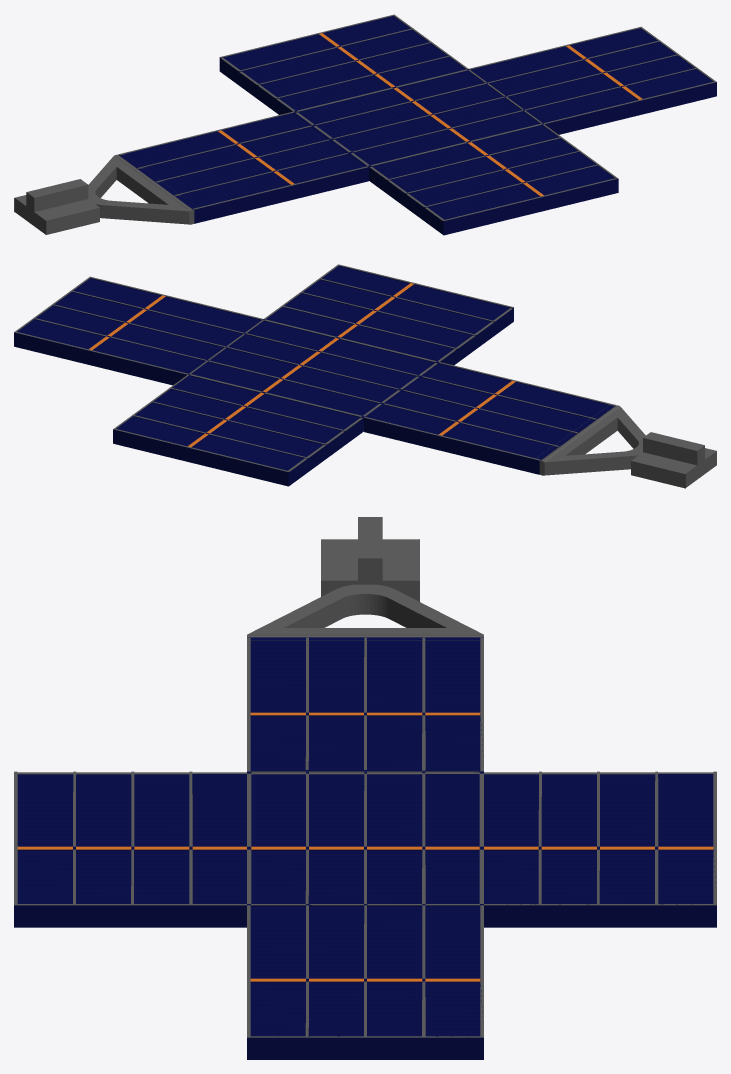
File: LeftWing.gltf
3 renders of one model, top to bottom at view 1: azimuth 30°, elevation 25°; view 2: azimuth 150°, elevation 25°; view 3: azimuth 270°, elevation 25°, orthographic. The views are drawn at different scales.
Visible parts, largest first — view 1: Psyche_Spacecraft_-_Left_Solar_Panels; view 2: Psyche_Spacecraft_-_Left_Solar_Panels; view 3: Psyche_Spacecraft_-_Left_Solar_Panels.
Part boxes in pixels (box(x1,y1,x2,y2)): Psyche_Spacecraft_-_Left_Solar_Panels: box(14, 14, 716, 235); Psyche_Spacecraft_-_Left_Solar_Panels: box(14, 264, 716, 488); Psyche_Spacecraft_-_Left_Solar_Panels: box(14, 517, 716, 1059).
Bounding box in the file's own units: 2.37 × 0.1065 × 1.42.
